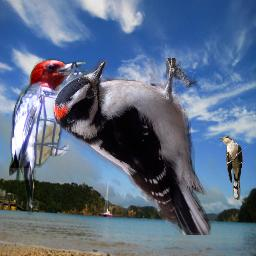Cuckoo: (219, 136, 243, 200)
Woodpecker: (50, 58, 212, 235), (9, 58, 90, 215)
